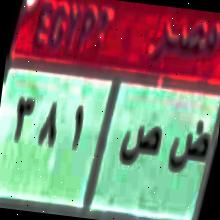1: (66, 96, 90, 156)
3: (9, 84, 38, 146)
8: (33, 96, 62, 155)
daad: (164, 113, 212, 186)
saad: (116, 114, 164, 176)
